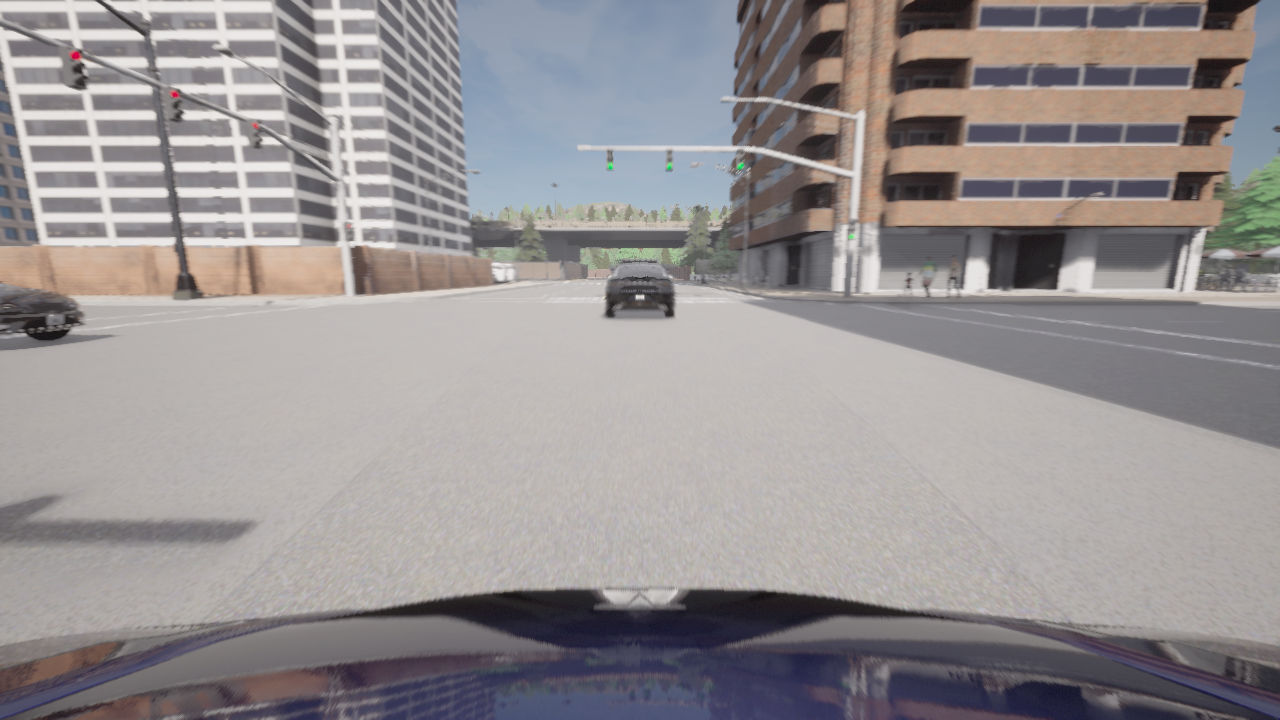cyclist: (0, 588, 1279, 719), (605, 259, 674, 317), (493, 261, 516, 283), (493, 263, 508, 284)
pedestrian: (916, 256, 937, 298), (944, 255, 960, 298), (901, 273, 915, 299)
